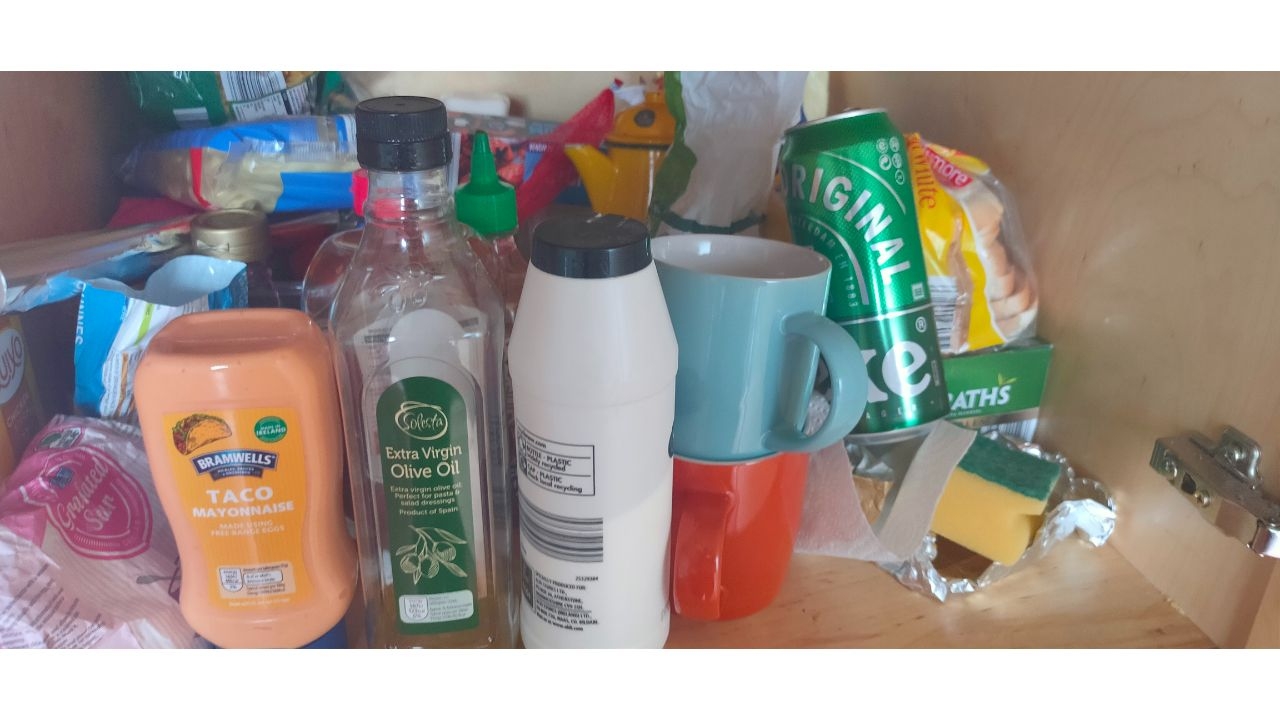Can: (782, 108, 948, 449)
